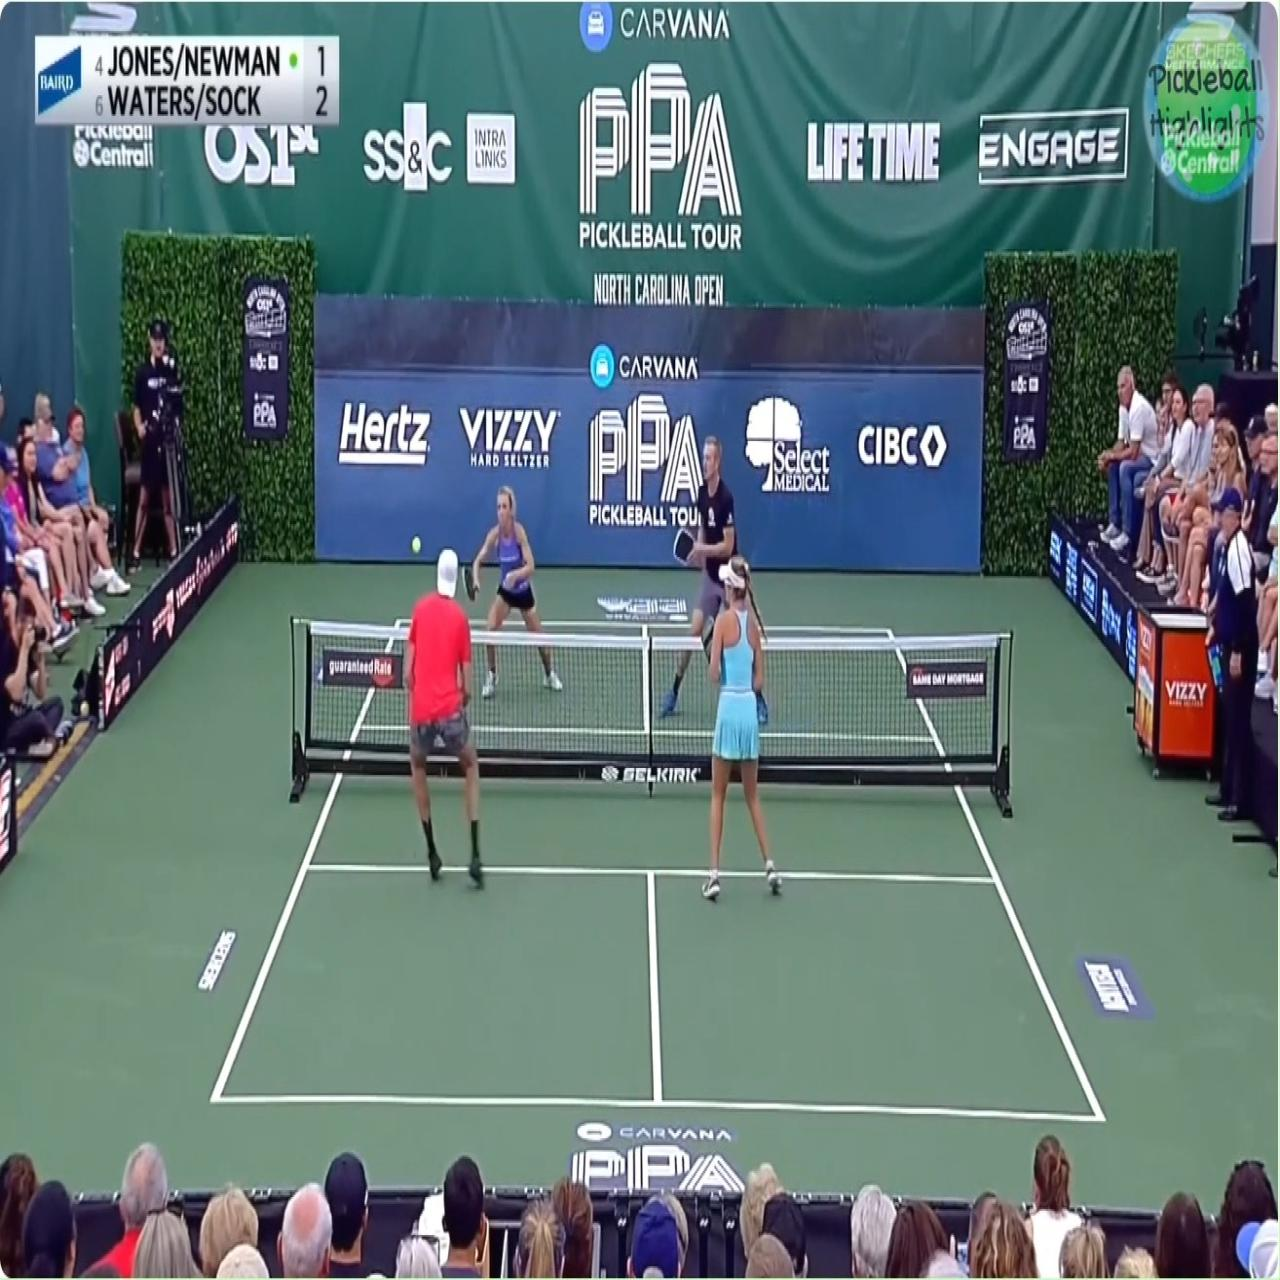pickleball: (411, 535, 421, 553)
